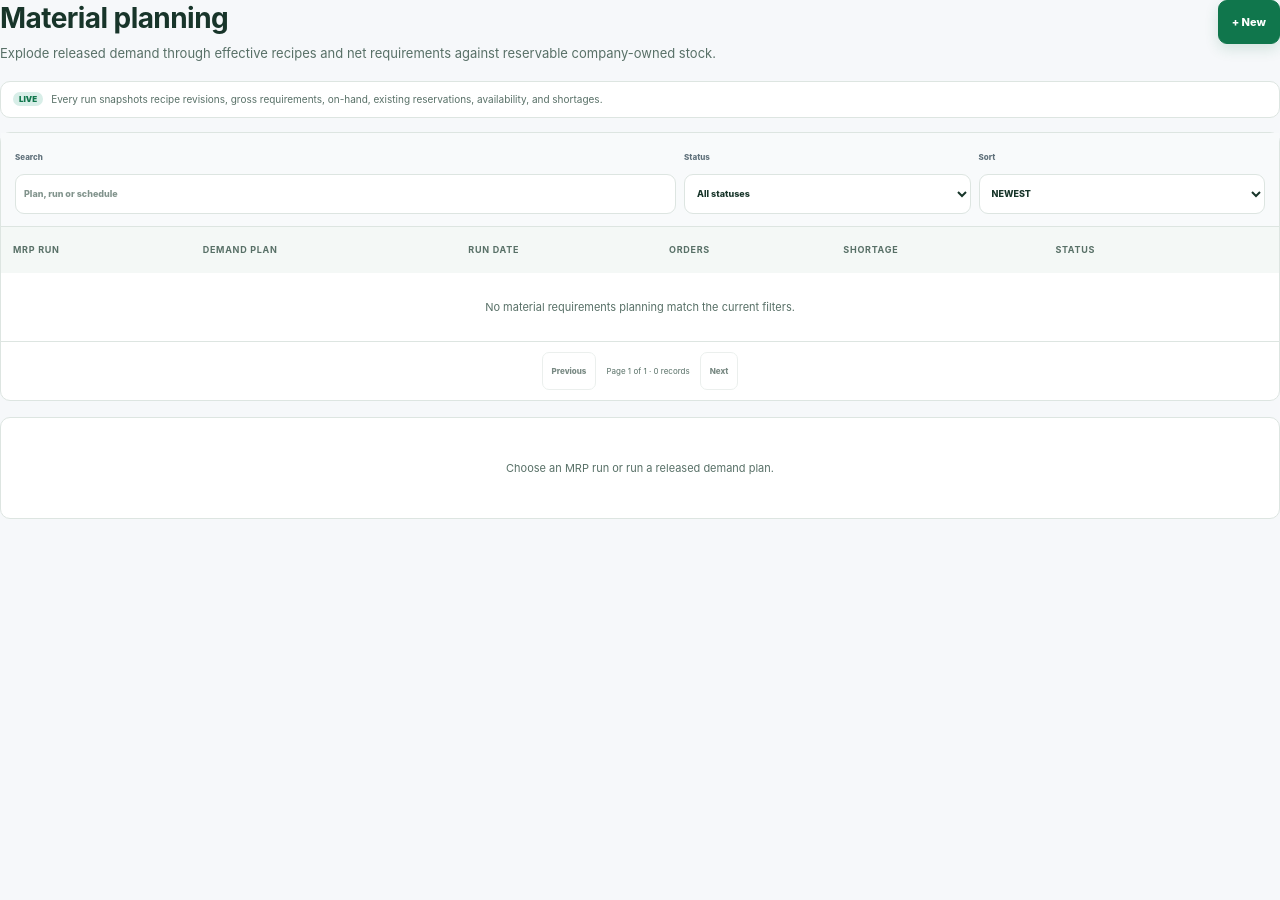
Test: manufacturing planning workspaces › runs MRP and exposes the recipe, inventory, and shortage snapshots
Click the button "+ New" at (1249, 22), box [1218,0,1279,44]
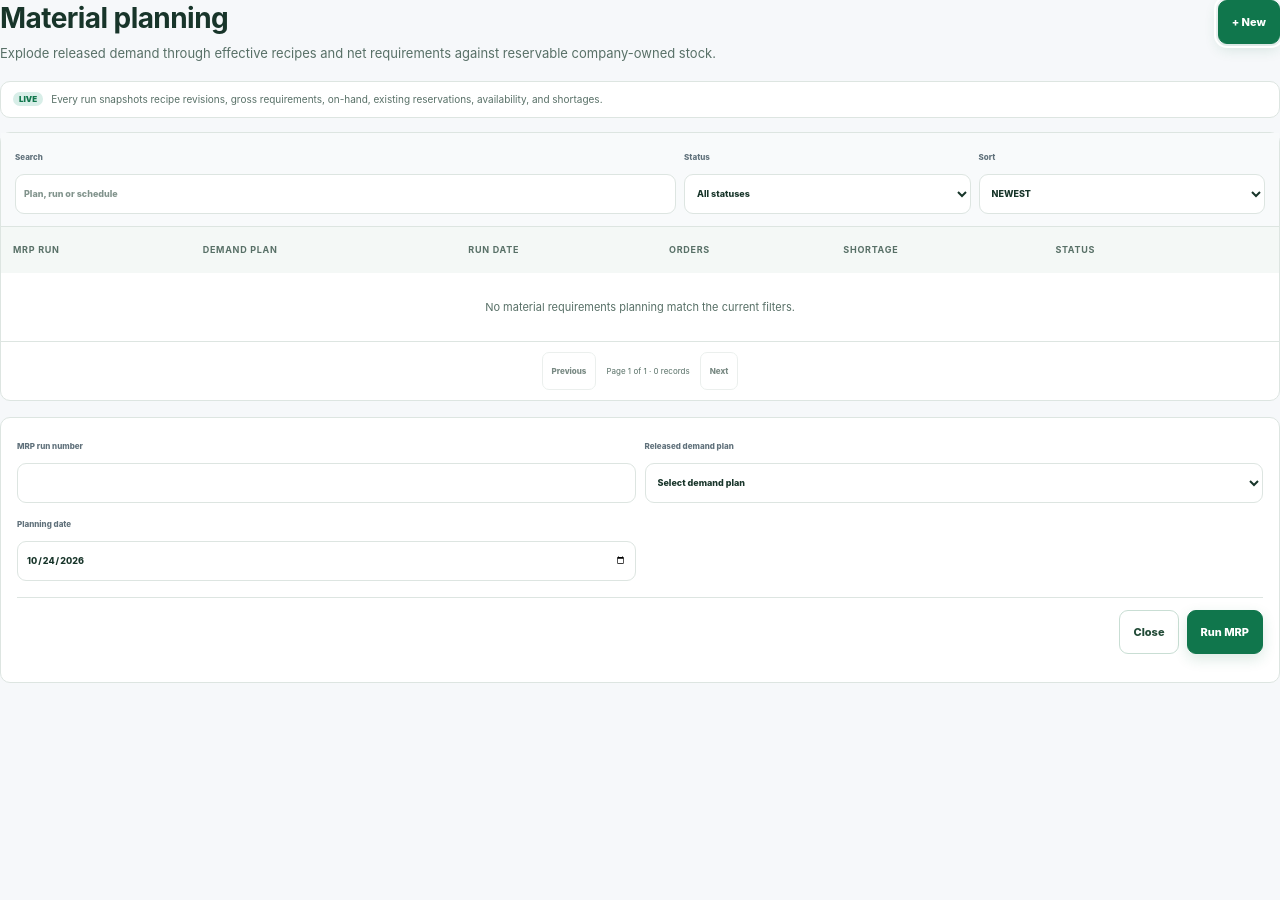
Type "mrp-ui-001" into the field labelled "MRP run number" at (326, 483), box [17,463,636,503]
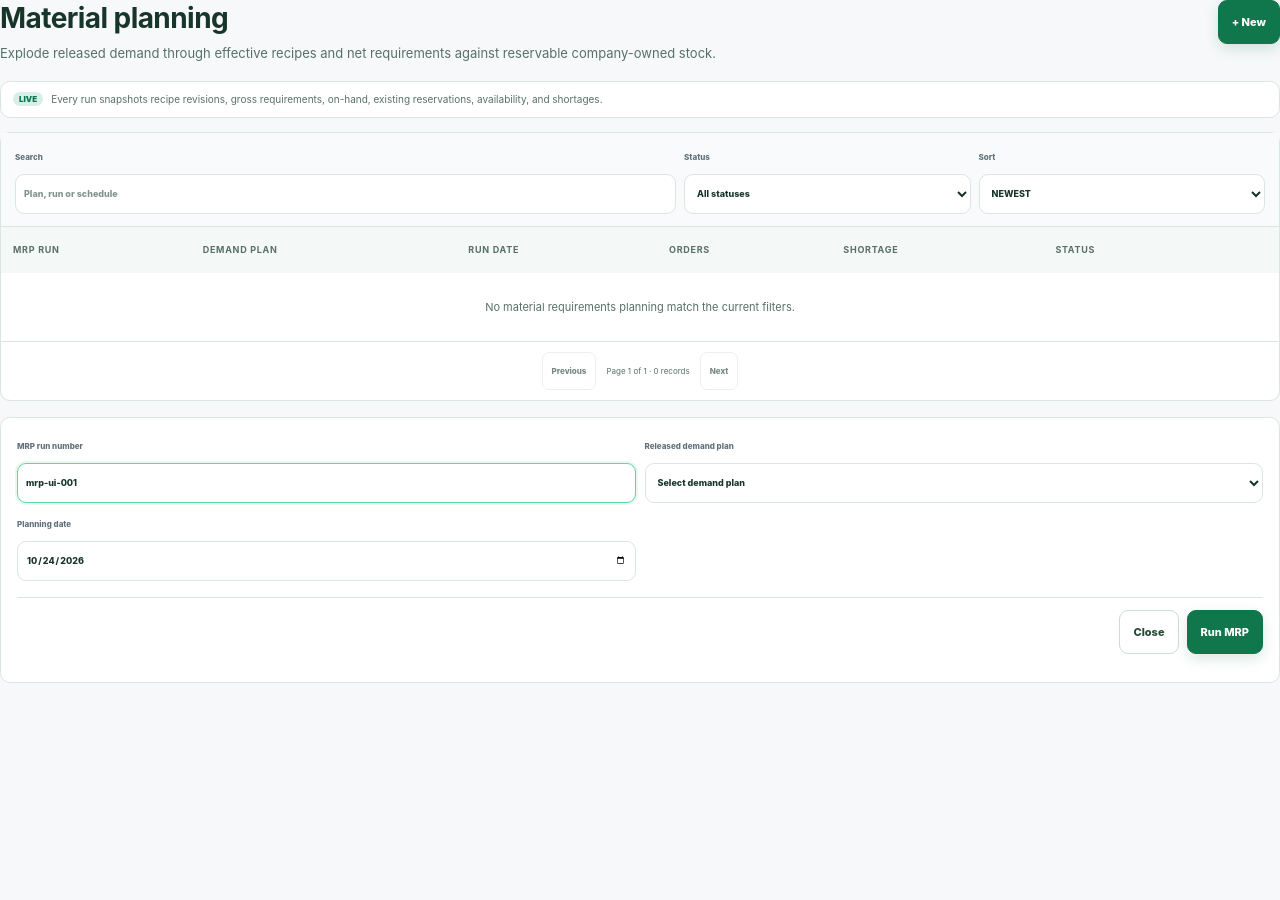
Select "PLAN-UI-001 - Weekly apple snack demand" in the dropdown labelled "Released demand plan" at (954, 483), box [644,463,1263,503]
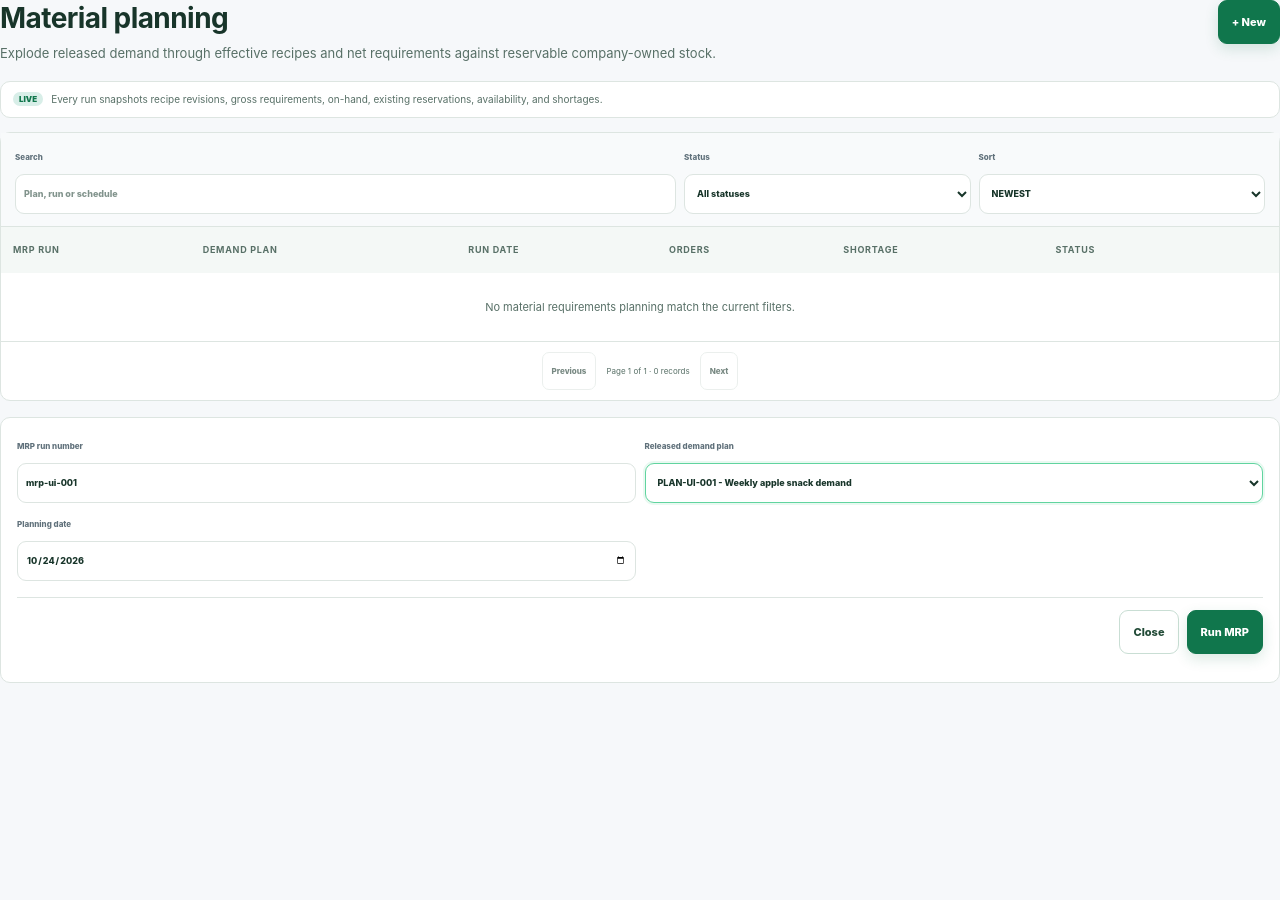
Click the button "Run MRP" at (1225, 632), box [1186,610,1263,654]
(page scrolled)
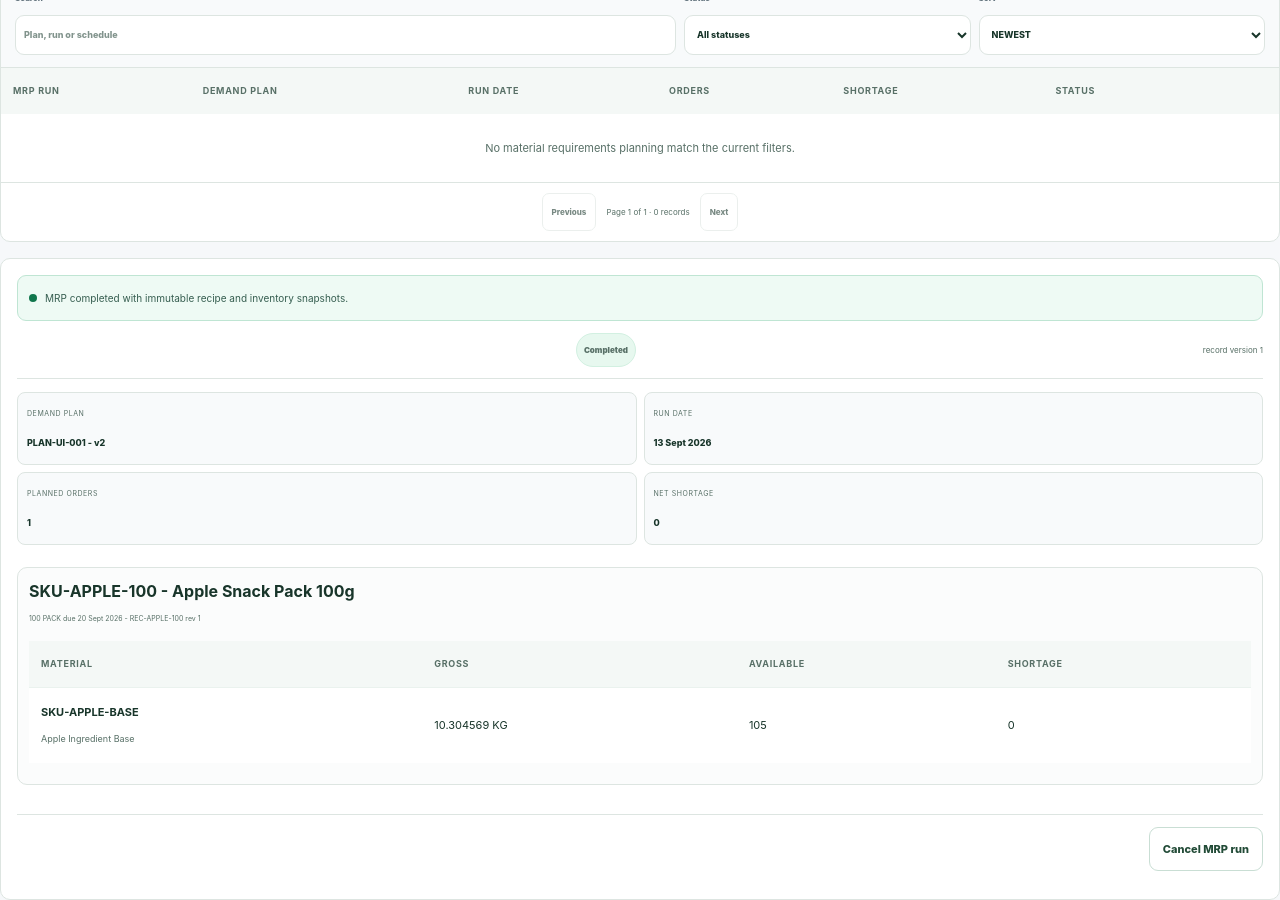
Expected: the text "MRP completed with immutable recipe and inventory snapshots." is shown, [17,275,1263,321]
Expected: the text "10.304569 KG" is shown, [422,687,737,763]
Expected: the text "105" is shown, [737,687,996,763]
